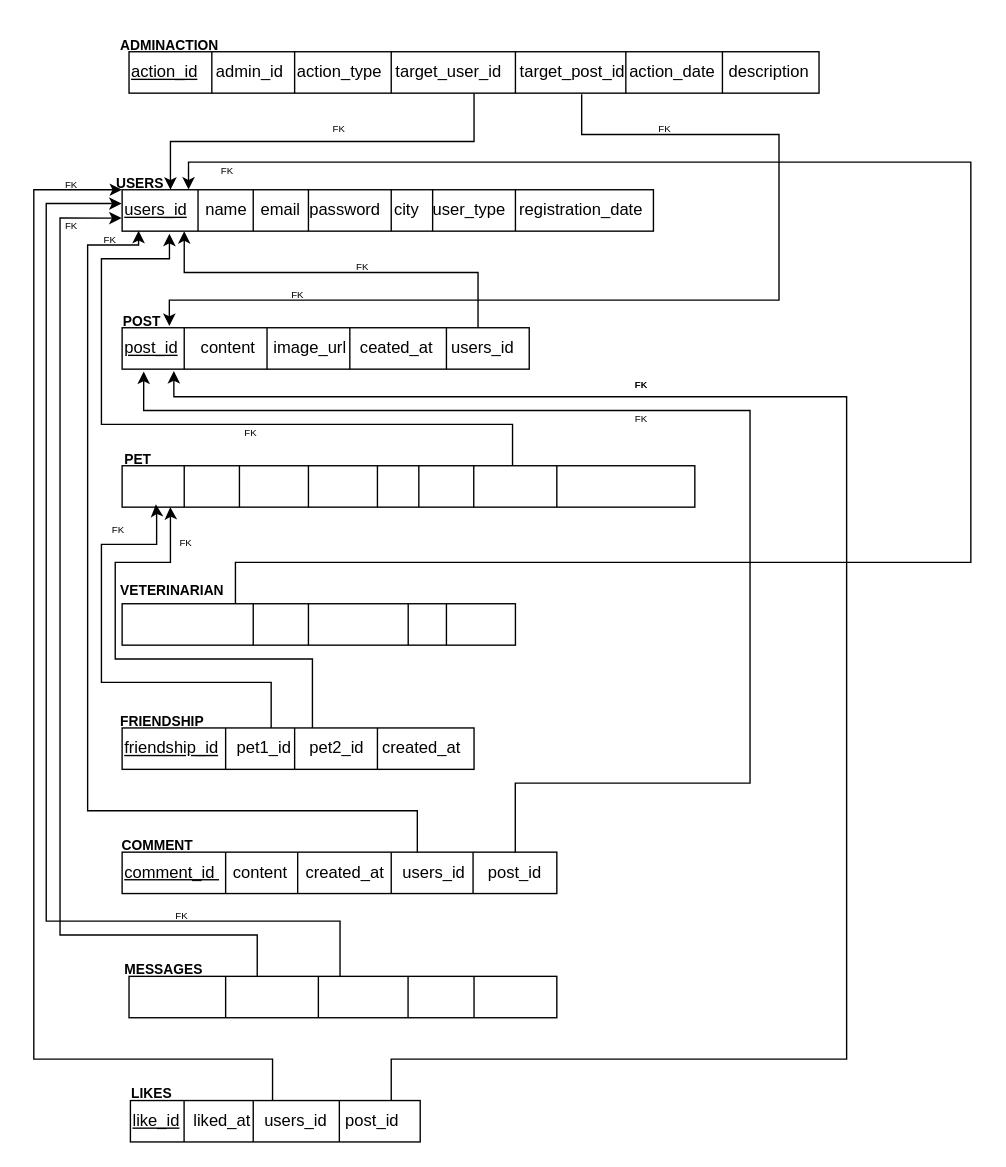
Some shapes in this 1006 by 1167 pixel diagram are drawn without their labels. The shapes that lost their labels are listed below. From the top down, each one's box as (x1, y1, x2, y2) in pixels, then its label:
(121, 464, 695, 507): pet_id name species breed age gender owner_id registration_date
(121, 602, 515, 645): veterianarian_id name clinic_name city email
(128, 975, 557, 1018): message_id sender_id receiver_id content send_at
